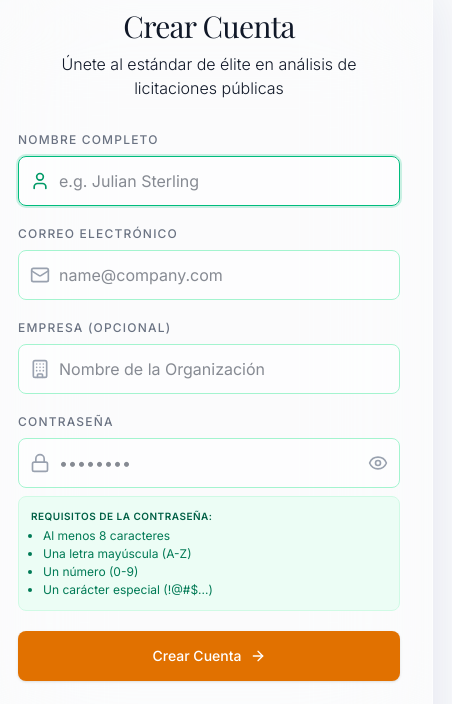
Test: RegisterForm › shows validation error for short password
This screenshot has width=452, height=704.
Type "short" into the password field labelled "Contraseña" at (209, 463), box left=18, top=438, right=400, bottom=488
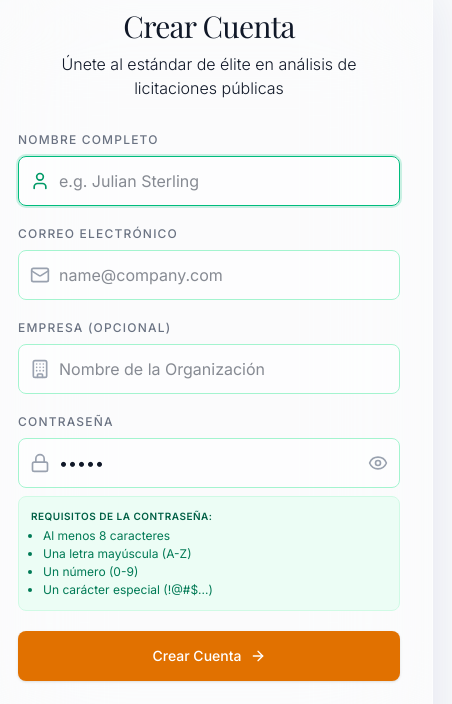
Click the button "Crear Cuenta" at (209, 656), box left=18, top=631, right=400, bottom=681
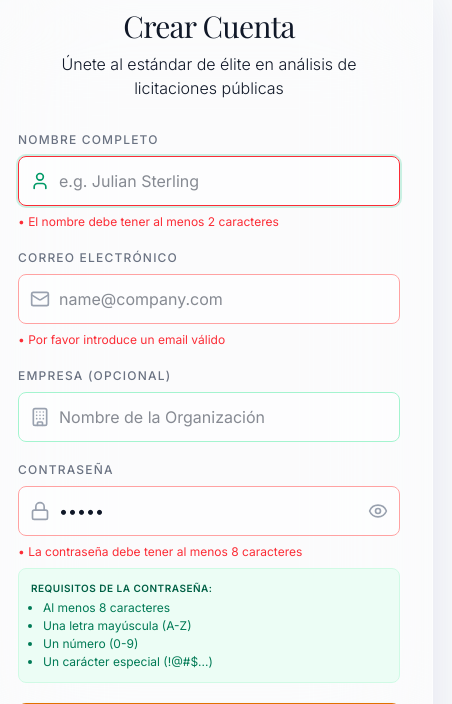
Expected: the text "• La contraseña debe tener al menos 8 caracteres" is shown, left=18, top=544, right=302, bottom=559
